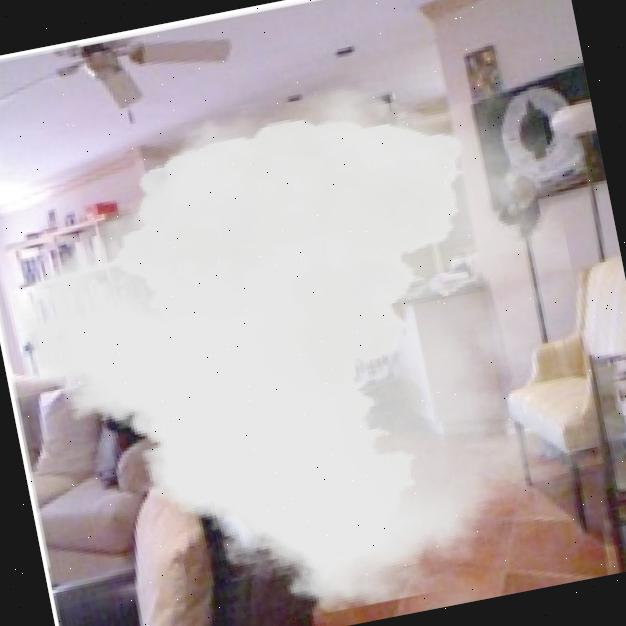smoke: (0, 49, 626, 626)
